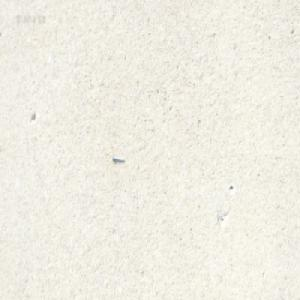Nail: (111, 153, 124, 162)
